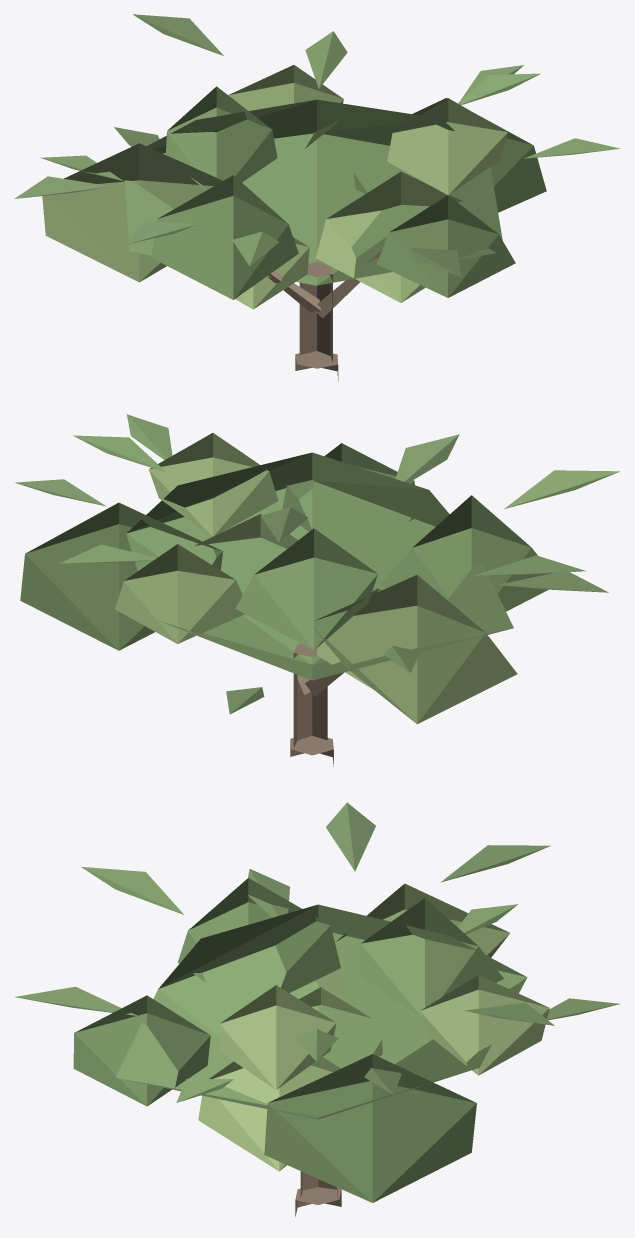
The model's file is shu.cha@subadult__bloom.glb.
The picture shows the model from 3 angles, top to bottom: view 1: azimuth 30°, elevation 25°; view 2: azimuth 150°, elevation 25°; view 3: azimuth 270°, elevation 25°; orthographic projection. The views are drawn at different scales.
Parts seen in each view (by area): view 1: shu.cha@subadult__bloom; view 2: shu.cha@subadult__bloom; view 3: shu.cha@subadult__bloom.
Boxes of the visible parts, x1,y1,x2,y2 form: shu.cha@subadult__bloom: (14,14,619,381); shu.cha@subadult__bloom: (15,414,619,766); shu.cha@subadult__bloom: (15,802,619,1216).
Bounding box in the file's own units: 2.6 × 1.41 × 2.37.
